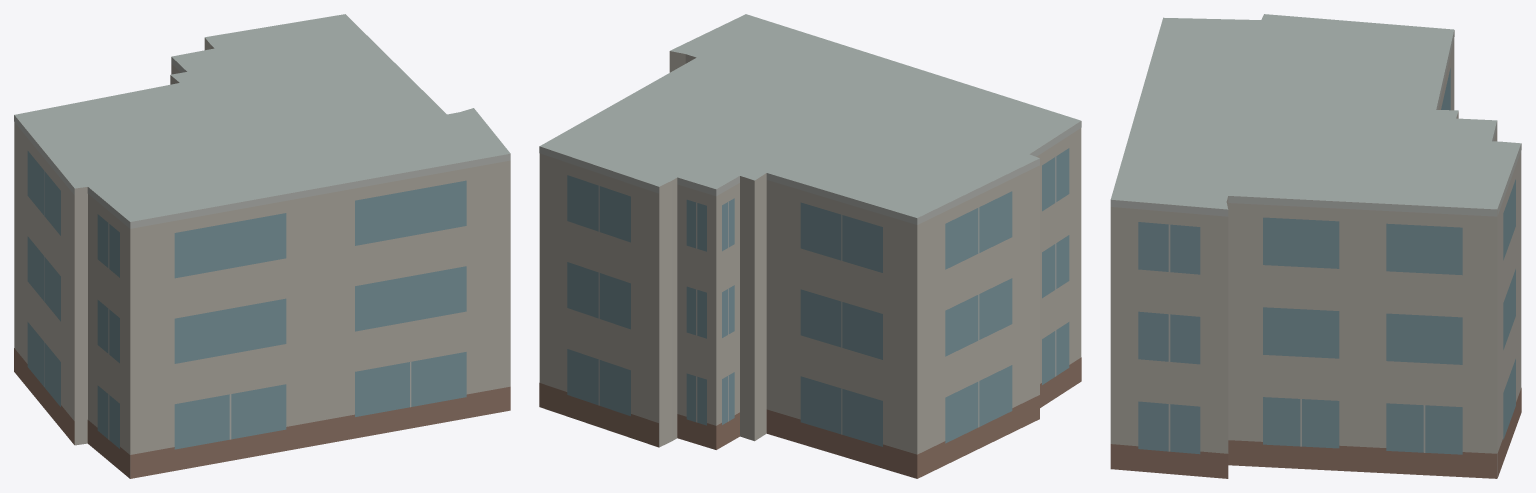
The model's file is survey-upis-32674274.glb.
3 views of the same model, side by side, from view 1: azimuth 30°, elevation 25°; view 2: azimuth 150°, elevation 25°; view 3: azimuth 270°, elevation 25° (orthographic). The views are drawn at different scales.
Parts seen in each view (by area): view 1: survey-upis-32674274.tmp; view 2: survey-upis-32674274.tmp; view 3: survey-upis-32674274.tmp.
Part boxes in pixels (x1=…): survey-upis-32674274.tmp: x1=14, y1=14, x2=510, y2=478; survey-upis-32674274.tmp: x1=539, y1=14, x2=1081, y2=478; survey-upis-32674274.tmp: x1=1110, y1=14, x2=1521, y2=478.
Bounding box in the file's own units: 14.25 × 9.15 × 12.66.
